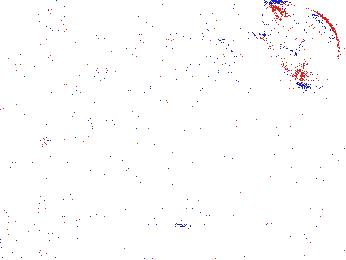moon jellyfish: (42, 67, 142, 168), (133, 1, 238, 67), (264, 3, 341, 89), (162, 31, 248, 100), (1, 9, 69, 89)
